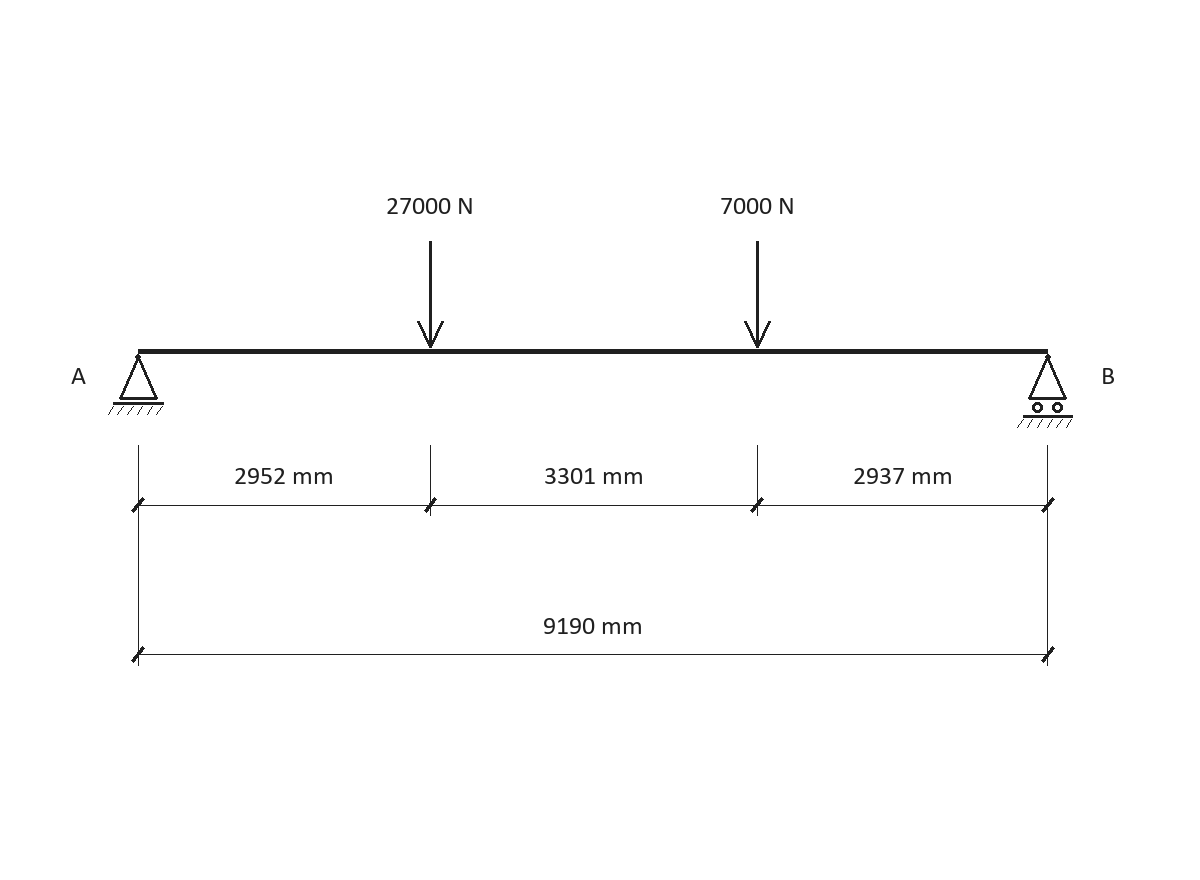pin_support: (108, 354, 164, 415)
point_load: (417, 241, 444, 348), (744, 241, 771, 348)
roller_support: (1017, 354, 1073, 428)
